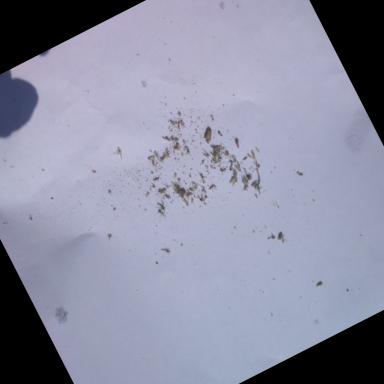pbw: (202, 126, 216, 144), (276, 232, 289, 246), (176, 187, 188, 198), (208, 184, 220, 195), (159, 154, 170, 165), (162, 132, 172, 144), (233, 136, 242, 148), (163, 148, 172, 159), (250, 148, 258, 160), (184, 191, 194, 200), (152, 176, 161, 184), (316, 282, 325, 290), (246, 152, 254, 160), (251, 180, 259, 187), (242, 186, 249, 192)
